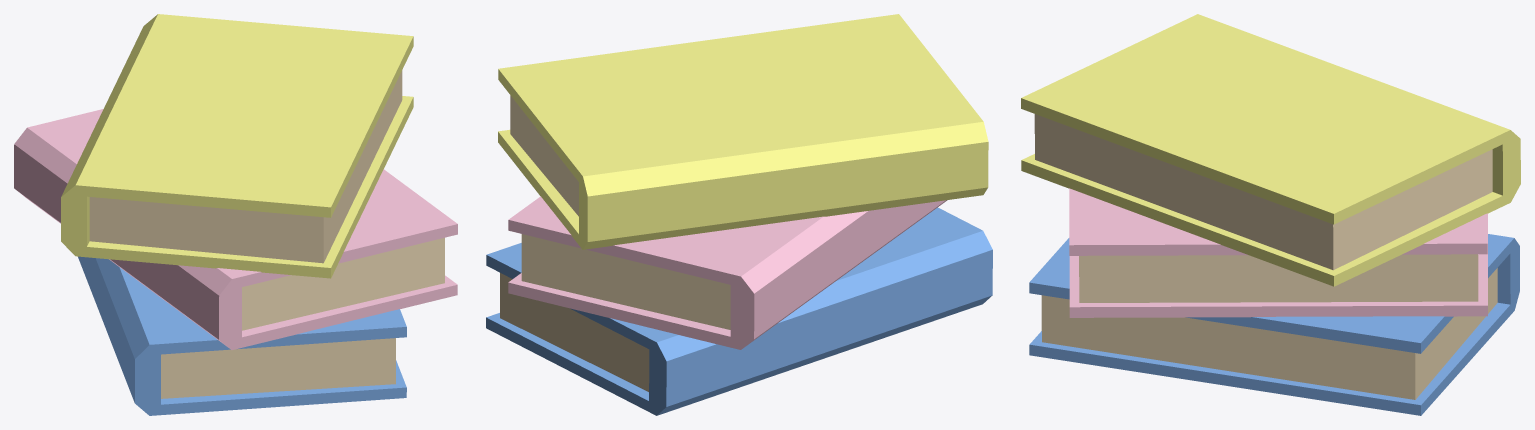
Rendered from pilha.glb.
The picture shows the model from 3 angles, left to right: view 1: azimuth 30°, elevation 25°; view 2: azimuth 150°, elevation 25°; view 3: azimuth 270°, elevation 25°; orthographic projection. The views are drawn at different scales.
Parts seen in each view (by area): view 1: Livros; view 2: Livros; view 3: Livros.
Part boxes in pixels (bbox=[...]): Livros: bbox=[14, 14, 457, 415]; Livros: bbox=[486, 14, 992, 415]; Livros: bbox=[1021, 14, 1520, 415].
Size of the model in its own units: 0.604 by 0.2988 by 0.6182.
